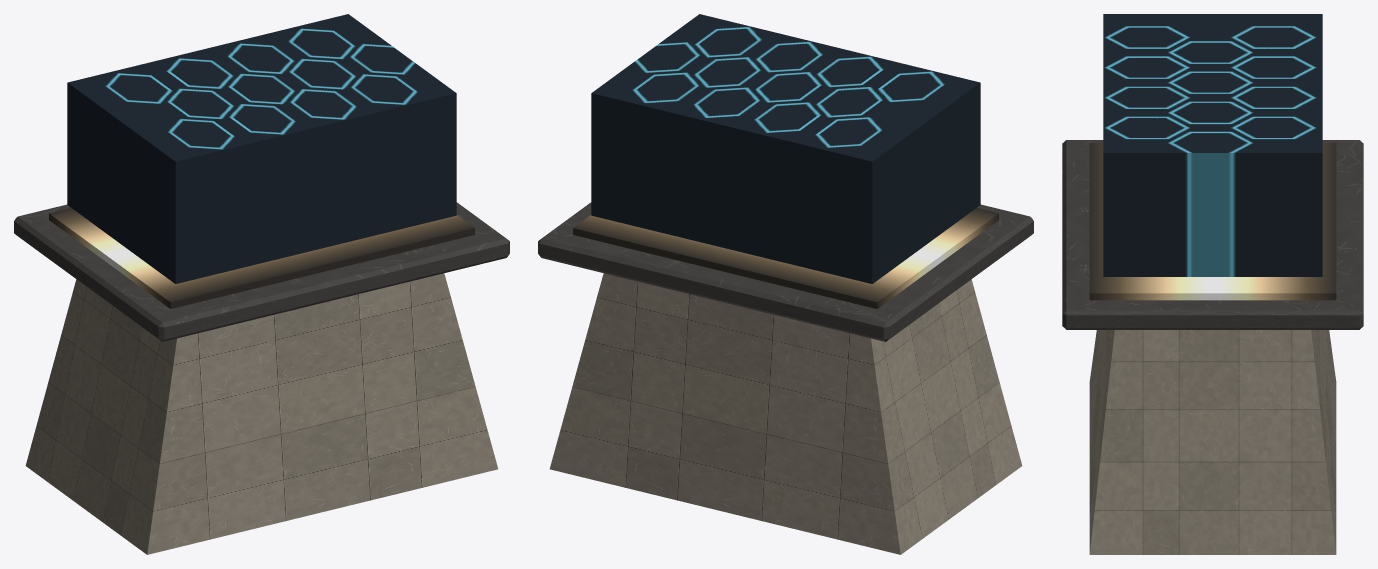
Rendered from prop_holomap_table.obj.
3 renders of one model, left to right at view 1: azimuth 30°, elevation 25°; view 2: azimuth 150°, elevation 25°; view 3: azimuth 270°, elevation 25°, orthographic.
Parts seen in each view (by area): view 1: prop_holomap_table; view 2: prop_holomap_table; view 3: prop_holomap_table.
Part boxes in pixels (box(x1,y1,x2,y2)): prop_holomap_table: box(14, 14, 509, 554); prop_holomap_table: box(538, 14, 1033, 554); prop_holomap_table: box(1062, 14, 1363, 554).
Bounding box in the file's own units: 1.5 × 1.55 × 1.1.
Materials: 1 (1 with a texture image).
